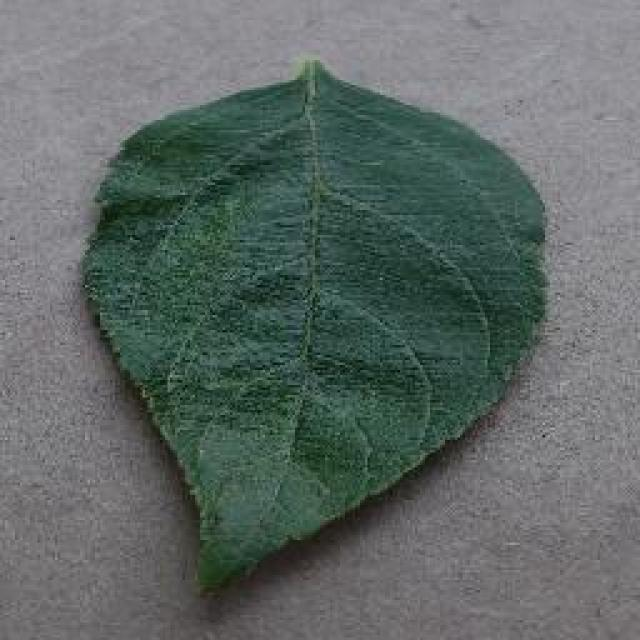apple scab disease: (78, 55, 550, 595)
